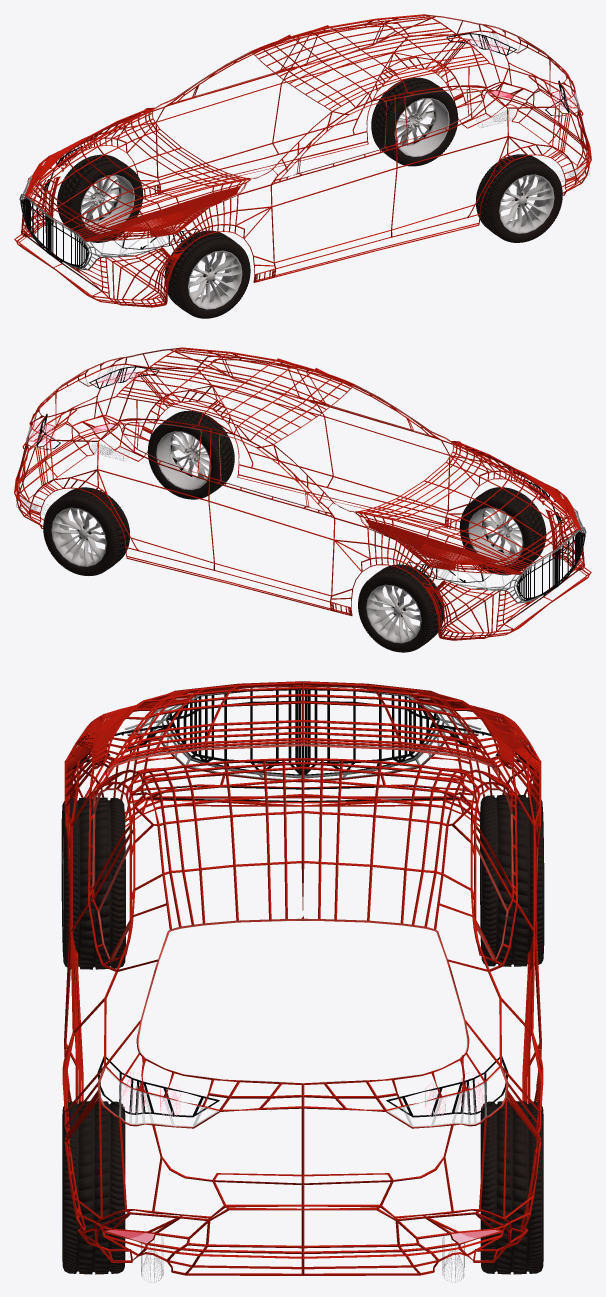
File: mazda3wire.glb
3 renders of one model, top to bottom at view 1: azimuth 30°, elevation 25°; view 2: azimuth 150°, elevation 25°; view 3: azimuth 270°, elevation 25°, orthographic. The views are drawn at different scales.
Parts seen in each view (by area): view 1: Car body, Car tire rear, Car tire front, Car grill 1, Car grill 2, Car brake lamp back, Car light cover back, Muffler; view 2: Car body, Car tire rear, Car tire front, Car grill 1, Car grill 2, Car brake lamp back, Car light cover back, Muffler; view 3: Car body, Car tire rear, Car tire front, Car grill 1, Car grill 2, Car brake lamp back, Car brake lamp cover, Muffler.
Boxes of the visible parts, x1=… form: Car body: x1=14, y1=14, x2=591, y2=307; Car tire rear: x1=371, y1=77, x2=562, y2=242; Car tire front: x1=57, y1=154, x2=250, y2=318; Car grill 1: x1=20, y1=198, x2=99, y2=289; Car grill 2: x1=19, y1=175, x2=183, y2=270; Car brake lamp back: x1=446, y1=33, x2=569, y2=116; Car light cover back: x1=42, y1=146, x2=196, y2=249; Muffler: x1=476, y1=109, x2=589, y2=181; Car body: x1=14, y1=347, x2=591, y2=640; Car tire rear: x1=43, y1=410, x2=234, y2=575; Car tire front: x1=358, y1=487, x2=546, y2=652; Car grill 1: x1=506, y1=531, x2=585, y2=622; Car grill 2: x1=422, y1=508, x2=586, y2=603; Car brake lamp back: x1=36, y1=366, x2=159, y2=449; Car light cover back: x1=409, y1=479, x2=563, y2=582; Muffler: x1=16, y1=442, x2=129, y2=514; Car body: x1=62, y1=681, x2=543, y2=1275; Car tire rear: x1=62, y1=1101, x2=543, y2=1274; Car tire front: x1=61, y1=795, x2=544, y2=969; Car grill 1: x1=146, y1=689, x2=459, y2=801; Car grill 2: x1=85, y1=686, x2=520, y2=779; Car brake lamp back: x1=97, y1=1056, x2=508, y2=1117; Car brake lamp cover: x1=98, y1=1067, x2=507, y2=1127; Muffler: x1=140, y1=1231, x2=465, y2=1282.
Bounding box in the file's own units: 8.95 × 2.94 × 3.65.
